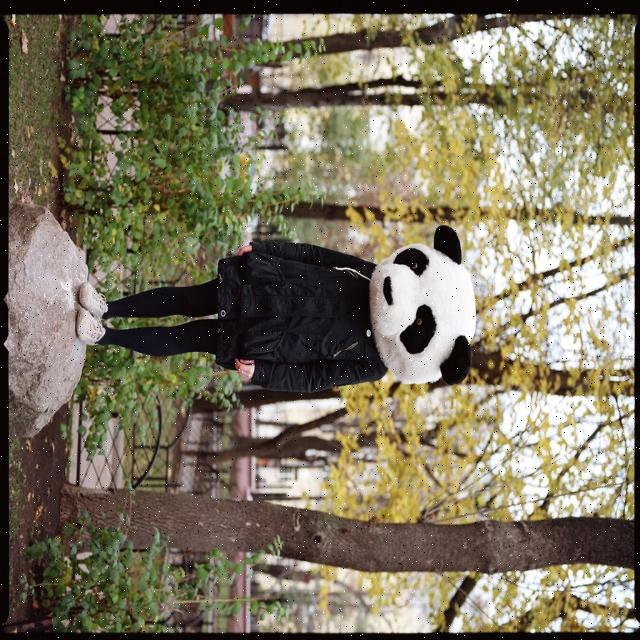panda: (368, 223, 476, 385)
